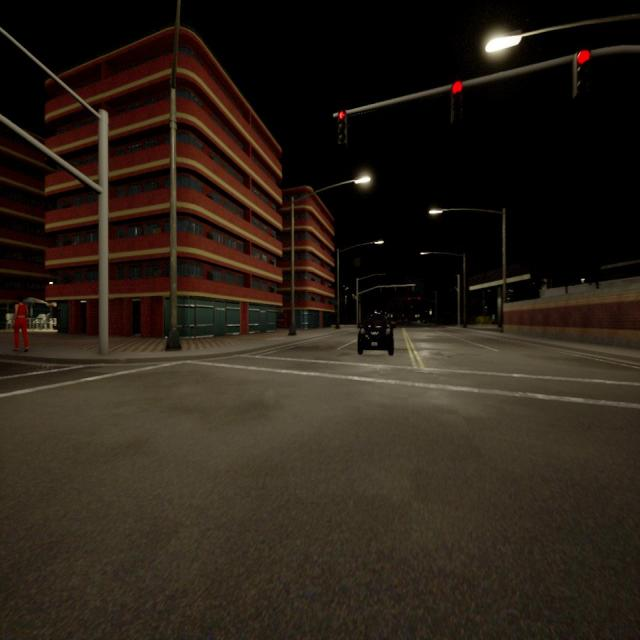Pedestrian: (14, 296, 28, 351)
Vehicle: (358, 315, 393, 355), (396, 318, 407, 326)
traffic_light: (575, 50, 589, 94), (452, 82, 461, 120), (338, 112, 346, 144), (412, 286, 414, 291), (408, 297, 411, 300), (418, 297, 420, 300), (395, 287, 396, 292), (380, 287, 381, 292)
